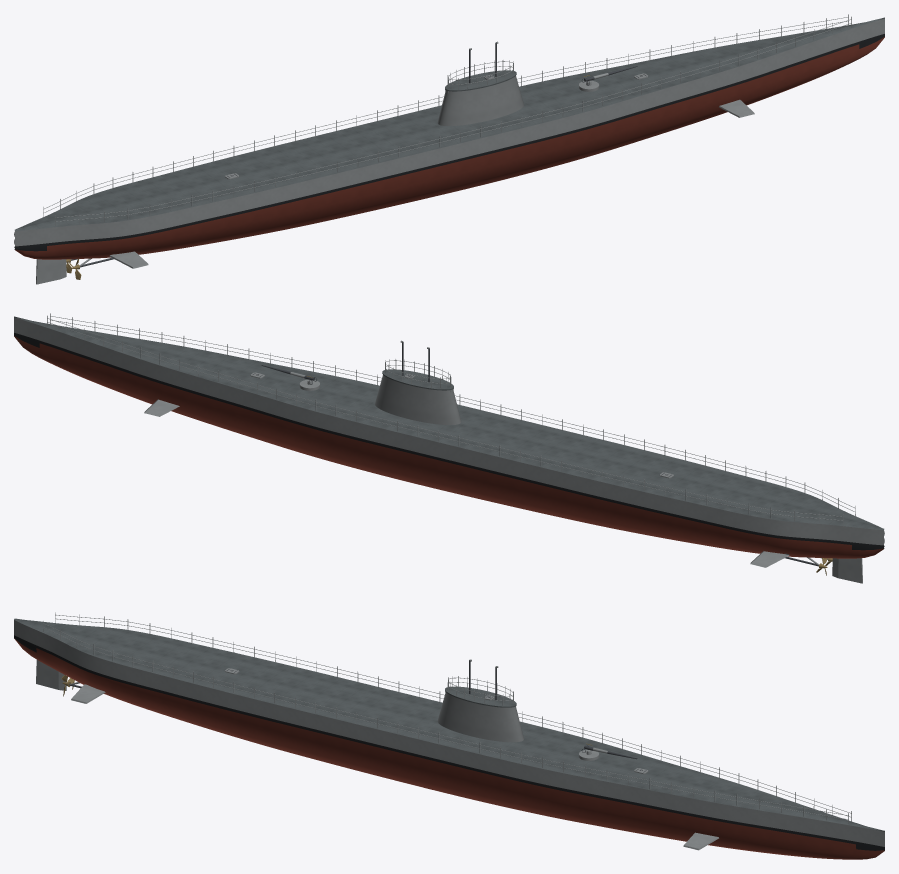
Rendered from sturgeon_ss23.glb.
The picture shows the model from 3 angles, top to bottom: view 1: azimuth 30°, elevation 25°; view 2: azimuth 150°, elevation 25°; view 3: azimuth 330°, elevation 25°; orthographic projection.
Visible parts, largest first — view 1: Sturgeon class; view 2: Sturgeon class; view 3: Sturgeon class.
Part boxes in pixels (bbox=[...]): Sturgeon class: bbox=[14, 14, 884, 284]; Sturgeon class: bbox=[14, 313, 884, 583]; Sturgeon class: bbox=[14, 612, 884, 859].
Size of the model in its own units: 84 by 12.31 by 10.42.
Materials: 6 (6 with a texture image).
